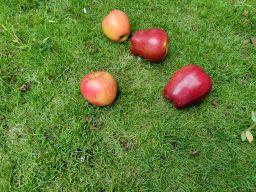apple: (156, 57, 219, 114), (71, 66, 126, 110), (123, 25, 178, 65), (94, 5, 139, 50)
